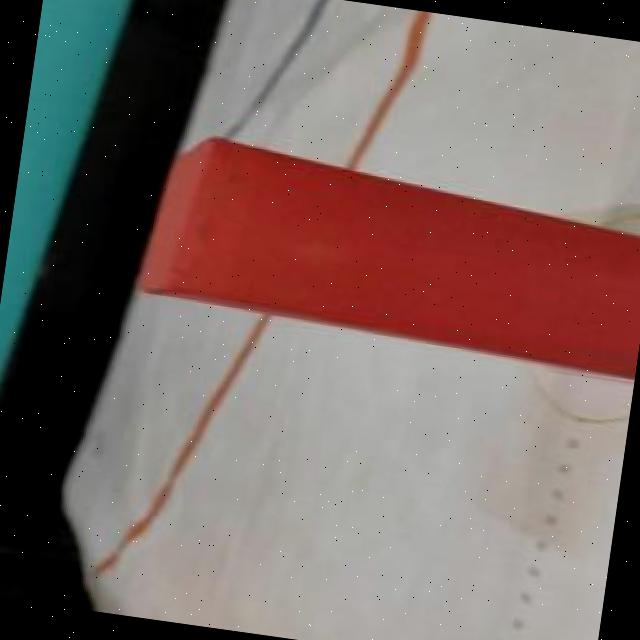redbox: (133, 127, 640, 384)
